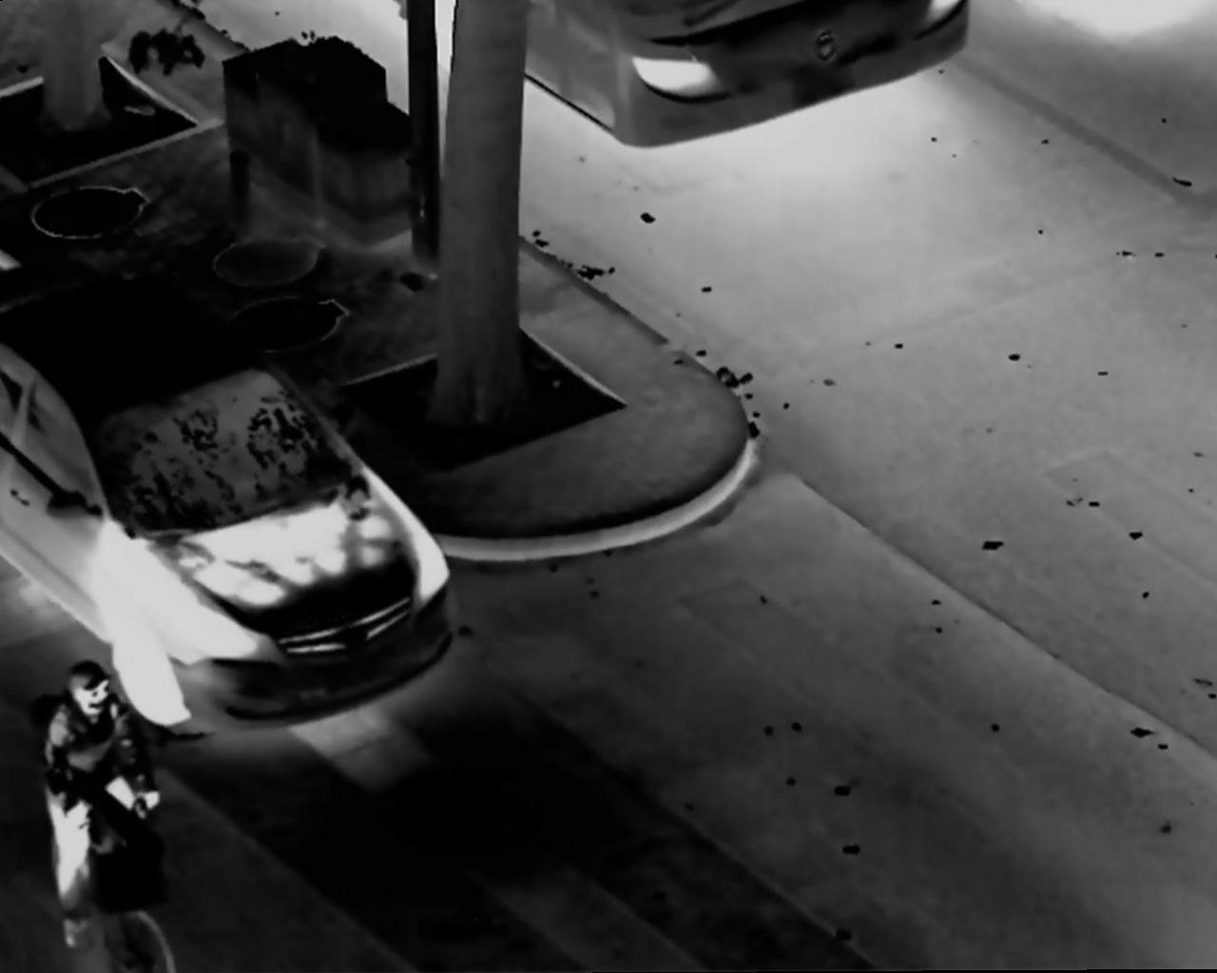person: (42, 658, 152, 934)
